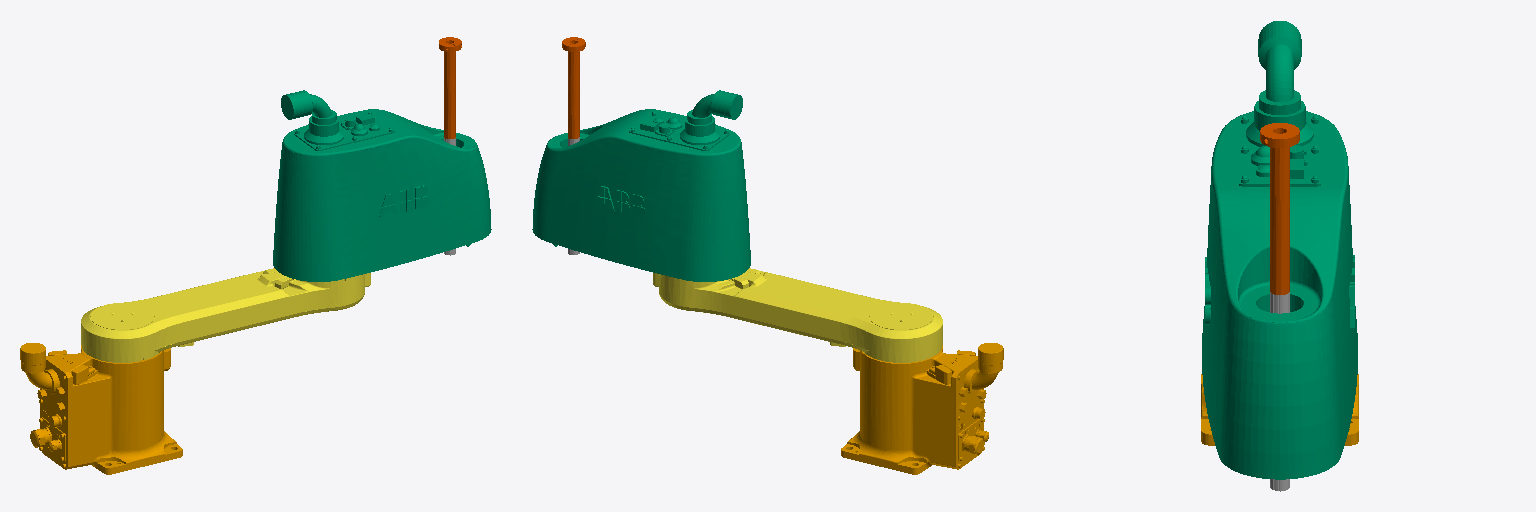
robot.urdf — irb910:
<?xml version="1.0" encoding="utf-8"?>
<robot name="irb910">
  <link name="base_link">
    <visual>
      <geometry>
        <mesh filename="package://abb_irb910sc_support/meshes/irb910sc_3_065/visual/base_link.obj" />
      </geometry>
    </visual>
    <collision>
      <geometry>
        <mesh filename="package://abb_irb910sc_support/meshes/irb910sc_3_065/visual/base_link.obj" />
      </geometry>
    </collision>
  </link>
  <link name="base" />
  <link name="link2">
    <visual>
      <geometry>
        <mesh filename="package://abb_irb910sc_support/meshes/irb910sc_3_065/visual/link2.obj" />
      </geometry>
    </visual>
    <collision>
      <geometry>
        <mesh filename="package://abb_irb910sc_support/meshes/irb910sc_3_065/visual/link2.obj" />
      </geometry>
    </collision>
  </link>
  <link name="link1">
    <visual>
      <geometry>
        <mesh filename="package://abb_irb910sc_support/meshes/irb910sc_3_065/visual/link1.obj" />
      </geometry>
    </visual>
    <collision>
      <geometry>
        <mesh filename="package://abb_irb910sc_support/meshes/irb910sc_3_065/visual/link1.obj" />
      </geometry>
    </collision>
  </link>
  <link name="flange" />
  <link name="link3">
    <visual>
      <geometry>
        <mesh filename="package://abb_irb910sc_support/meshes/irb910sc_3_065/visual/link3.obj" />
      </geometry>
    </visual>
    <collision>
      <geometry>
        <mesh filename="package://abb_irb910sc_support/meshes/irb910sc_3_065/visual/link3.obj" />
      </geometry>
    </collision>
  </link>
  <link name="tool0" />
  <link name="link4">
    <visual>
      <geometry>
        <mesh filename="package://abb_irb910sc_support/meshes/irb910sc_3_065/visual/link4.obj" />
      </geometry>
    </visual>
    <collision>
      <geometry>
        <mesh filename="package://abb_irb910sc_support/meshes/irb910sc_3_065/visual/link4.obj" />
      </geometry>
    </collision>
  </link>
  <joint name="base_link-base" type="fixed">
    <parent link="base_link" />
    <child link="base" />
    <origin rpy="0.0 -0.0 0.0" xyz="0.0 0.0 0.0" />
  </joint>
  <joint name="joint1" type="revolute">
    <parent link="base_link" />
    <child link="link1" />
    <axis xyz="0.0 0.0 1.0" />
    <limit effort="0.0" lower="-2.44346" upper="2.44346" velocity="0.0" />
    <origin rpy="0.0 -0.0 0.0" xyz="0.0 0.0 0.1962" />
  </joint>
  <joint name="joint2" type="revolute">
    <parent link="link1" />
    <child link="link2" />
    <axis xyz="0.0 0.0 1.0" />
    <limit effort="0.0" lower="-2.61799" upper="2.61799" velocity="0.0" />
    <origin rpy="0.0 -0.0 0.0" xyz="0.4 0.0 0.0615" />
  </joint>
  <joint name="joint3" type="prismatic">
    <parent link="link2" />
    <child link="link3" />
    <axis xyz="0.0 0.0 1.0" />
    <limit effort="0.0" lower="-0.18" upper="0.0" velocity="0.0" />
    <origin rpy="0.0 -0.0 0.0" xyz="0.25 0.0 0.18" />
  </joint>
  <joint name="joint4" type="revolute">
    <parent link="link3" />
    <child link="link4" />
    <axis xyz="0.0 0.0 1.0" />
    <limit effort="0.0" lower="-6.98132" upper="6.98132" velocity="0.0" />
    <origin rpy="0.0 -0.0 0.0" xyz="0.0 0.0 -0.2202" />
  </joint>
  <joint name="link_4-flange" type="fixed">
    <parent link="link4" />
    <child link="flange" />
    <origin rpy="0.0 -0.0 0.0" xyz="0.0 0.0 0.0" />
  </joint>
  <joint name="flange-tool0" type="fixed">
    <parent link="flange" />
    <child link="tool0" />
    <origin rpy="0.0 -0.0 0.0" xyz="0.0 0.0 0.0" />
  </joint>
</robot>

--- Render facts (derived) ---
Views: 3 orthographic renders of the robot side by side, from view 1: azimuth 30°, elevation 25°; view 2: azimuth 150°, elevation 25°; view 3: azimuth 270°, elevation 25°.
Model irb910 with 8 links and 7 joints (3 revolute, 1 prismatic, 3 fixed), rooted at base_link, posed all joints at 0.
Links seen in each view (by area): view 1: link2, base_link, link1, link3; view 2: link2, base_link, link1, link3; view 3: link2, link3, base_link, link4.
Link boxes in pixels (bbox=[...]): link2: bbox=[273, 90, 491, 281]; base_link: bbox=[20, 343, 182, 474]; link1: bbox=[81, 268, 370, 362]; link3: bbox=[439, 37, 461, 138]; link2: bbox=[532, 90, 750, 281]; base_link: bbox=[841, 343, 1003, 474]; link1: bbox=[653, 268, 942, 362]; link3: bbox=[562, 37, 585, 138]; link2: bbox=[1202, 21, 1357, 479]; link3: bbox=[1260, 123, 1299, 294]; base_link: bbox=[1201, 374, 1358, 445]; link4: bbox=[1270, 292, 1289, 491].
Bounding box of the posed robot: 0.9215 × 0.16 × 0.6202 m (x, y, z).
5 mesh visuals loaded from 5 distinct referenced files (5 OBJ).